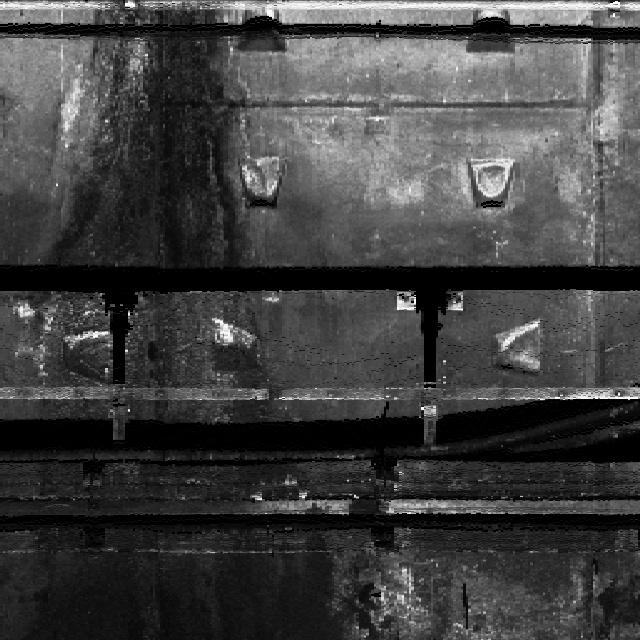leakage: (0, 0, 350, 630)
